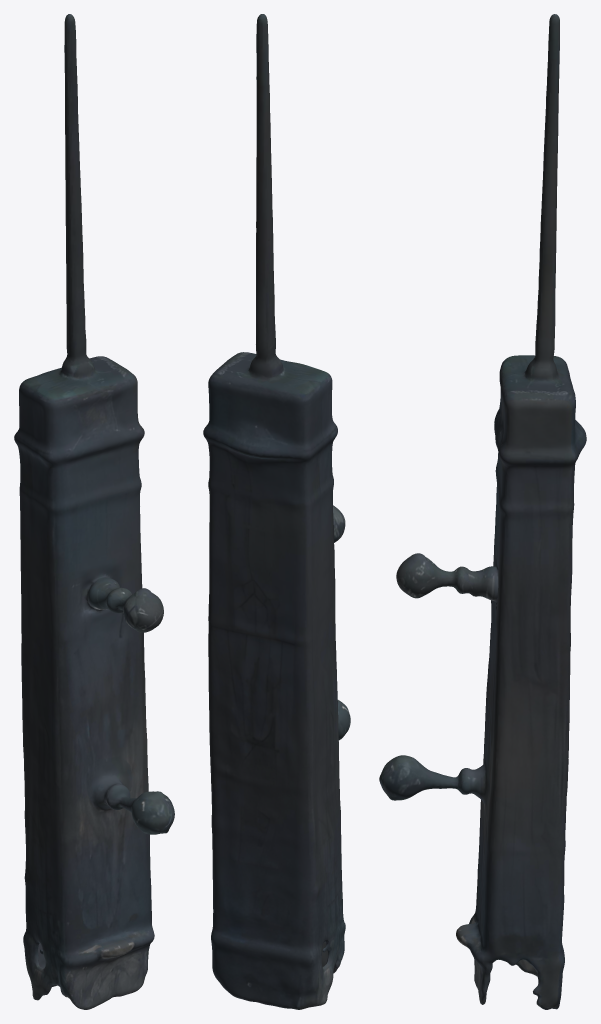
The model's file is smog_haze_emitter.glb.
3 renders of one model, left to right at view 1: azimuth 30°, elevation 25°; view 2: azimuth 150°, elevation 25°; view 3: azimuth 270°, elevation 25°, orthographic. The views are drawn at different scales.
Parts seen in each view (by area): view 1: tripo_node_8be36e59-2155-4cb3-8ede-9adb4bcc54a0; view 2: tripo_node_8be36e59-2155-4cb3-8ede-9adb4bcc54a0; view 3: tripo_node_8be36e59-2155-4cb3-8ede-9adb4bcc54a0.
Boxes of the visible parts, x1=… form: tripo_node_8be36e59-2155-4cb3-8ede-9adb4bcc54a0: x1=14, y1=14, x2=174, y2=1009; tripo_node_8be36e59-2155-4cb3-8ede-9adb4bcc54a0: x1=203, y1=14, x2=350, y2=1009; tripo_node_8be36e59-2155-4cb3-8ede-9adb4bcc54a0: x1=379, y1=14, x2=586, y2=1009.
Bounding box in the file's own units: 0.1063 × 0.9459 × 0.1806.
Materials: 1 (1 with a texture image).
